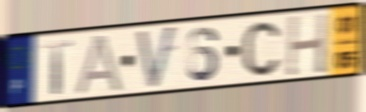6: (187, 25, 220, 83)
A: (74, 31, 125, 96)
C: (241, 19, 281, 78)
H: (284, 11, 330, 79)
T: (41, 37, 74, 96)
V: (135, 23, 179, 93)
